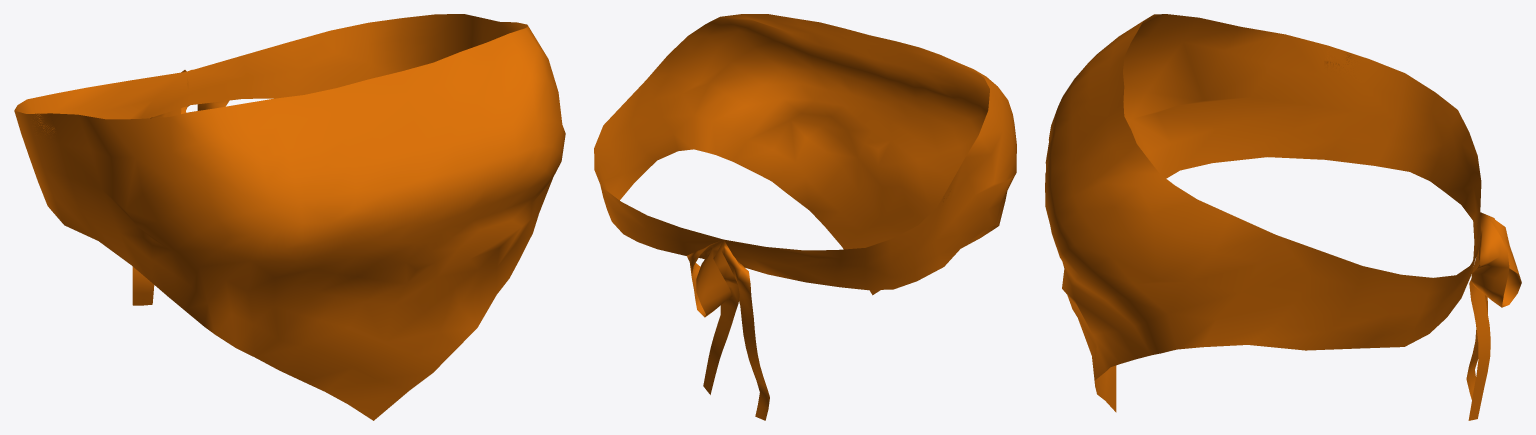
File: topfem7.glb
3 views of the same model, side by side, from view 1: azimuth 30°, elevation 25°; view 2: azimuth 150°, elevation 25°; view 3: azimuth 270°, elevation 25° (orthographic). The views are drawn at different scales.
Visible parts, largest first — view 1: hash_62ABA77C.model; view 2: hash_62ABA77C.model; view 3: hash_62ABA77C.model.
Boxes of the visible parts, x1,y1,x2,y2 form: hash_62ABA77C.model: (14, 14, 565, 420); hash_62ABA77C.model: (594, 14, 1016, 420); hash_62ABA77C.model: (1045, 14, 1521, 420).
Size of the model in its own units: 0.2999 by 0.2323 by 0.2967.
